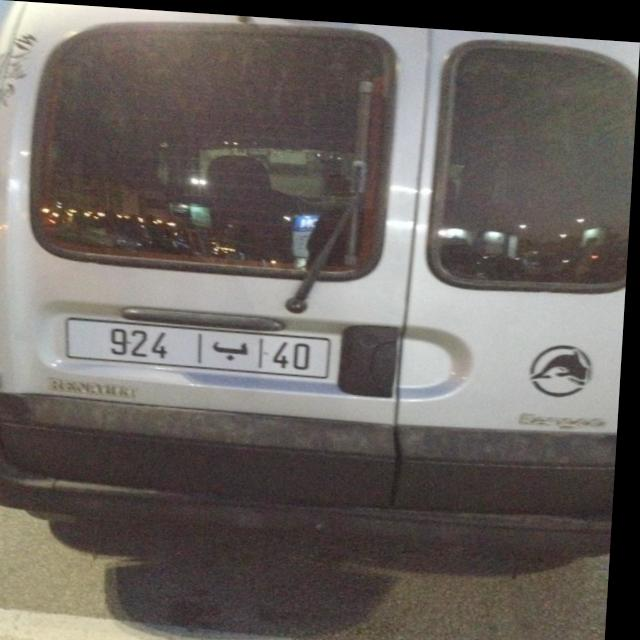License-Plate: (70, 317, 335, 373)
